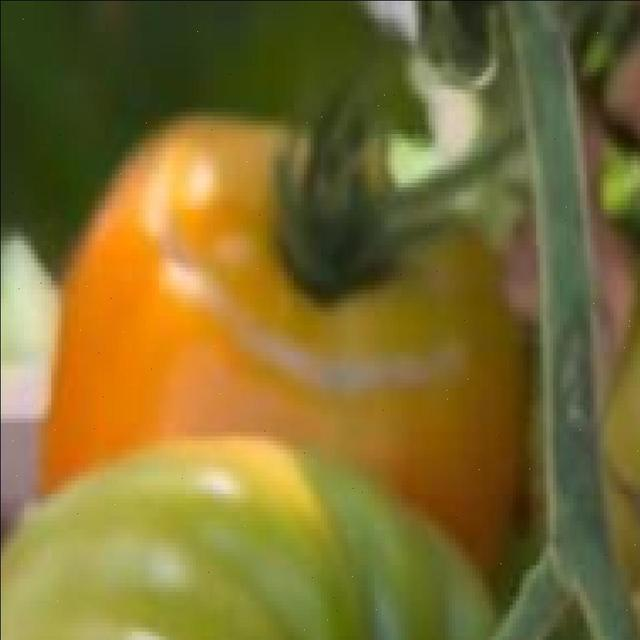Cracking Fruit: (91, 90, 337, 258)
